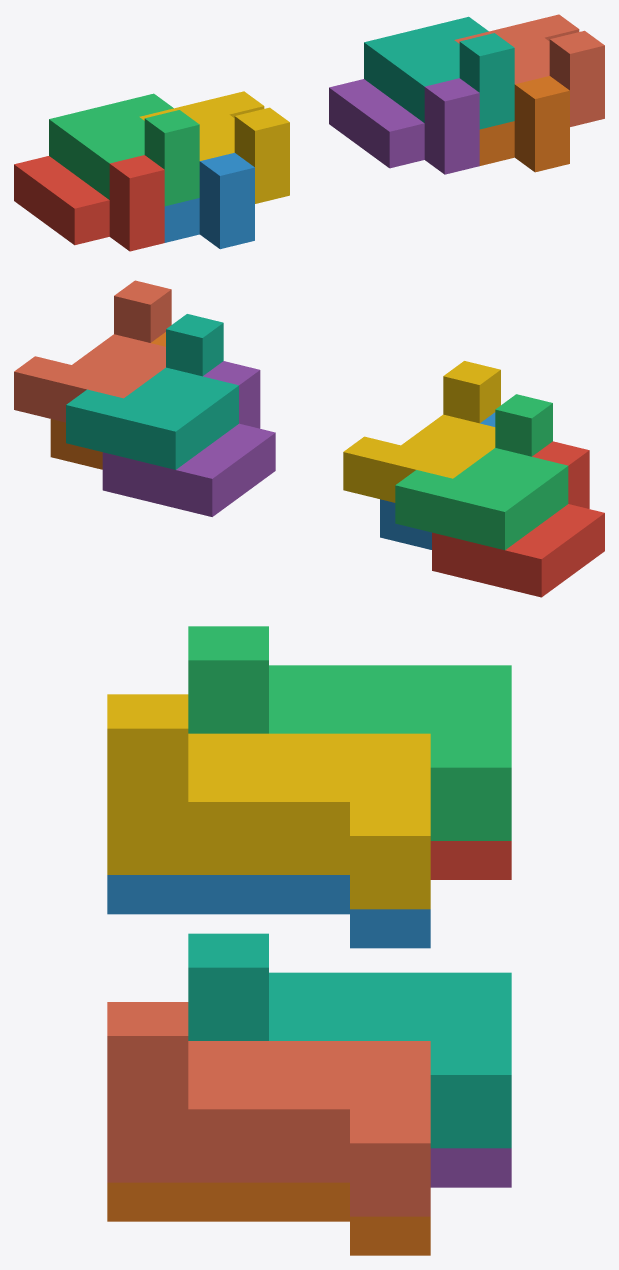
Rendered from tiling.obj.
3 renders of one model, top to bottom at view 1: azimuth 30°, elevation 25°; view 2: azimuth 150°, elevation 25°; view 3: azimuth 270°, elevation 25°, orthographic. The views are drawn at different scales.
Parts seen in each view (by area): view 1: copy_1_domain_7, copy_1_domain_3, copy_1_domain_1, copy_1_domain_5, copy_1_domain_8, copy_1_domain_4, copy_1_domain_2, copy_1_domain_6; view 2: copy_1_domain_3, copy_1_domain_7, copy_1_domain_5, copy_1_domain_1, copy_1_domain_4, copy_1_domain_8, copy_1_domain_6, copy_1_domain_2; view 3: copy_1_domain_4, copy_1_domain_8, copy_1_domain_7, copy_1_domain_3, copy_1_domain_2, copy_1_domain_6, copy_1_domain_5, copy_1_domain_1.
Boxes of the visible parts, x1,y1,x2,y2 form: copy_1_domain_7: (364, 16, 514, 129); copy_1_domain_3: (49, 93, 199, 206); copy_1_domain_1: (14, 155, 164, 251); copy_1_domain_5: (329, 78, 479, 174); copy_1_domain_8: (454, 14, 604, 126); copy_1_domain_4: (139, 91, 289, 203); copy_1_domain_2: (164, 152, 254, 249); copy_1_domain_6: (479, 76, 569, 172); copy_1_domain_3: (395, 394, 568, 550); copy_1_domain_7: (66, 314, 238, 469); copy_1_domain_5: (102, 361, 275, 516); copy_1_domain_1: (432, 441, 604, 597); copy_1_domain_4: (343, 361, 500, 502); copy_1_domain_8: (14, 280, 171, 422); copy_1_domain_6: (50, 332, 165, 469); copy_1_domain_2: (380, 412, 495, 549); copy_1_domain_4: (107, 694, 430, 909); copy_1_domain_8: (107, 1002, 430, 1216); copy_1_domain_7: (188, 933, 511, 1148); copy_1_domain_3: (188, 626, 511, 840); copy_1_domain_2: (107, 875, 430, 948); copy_1_domain_6: (107, 1182, 430, 1255); copy_1_domain_5: (430, 1148, 511, 1187); copy_1_domain_1: (430, 841, 511, 879).
Size of the model in its own units: 15 by 3 by 5.
